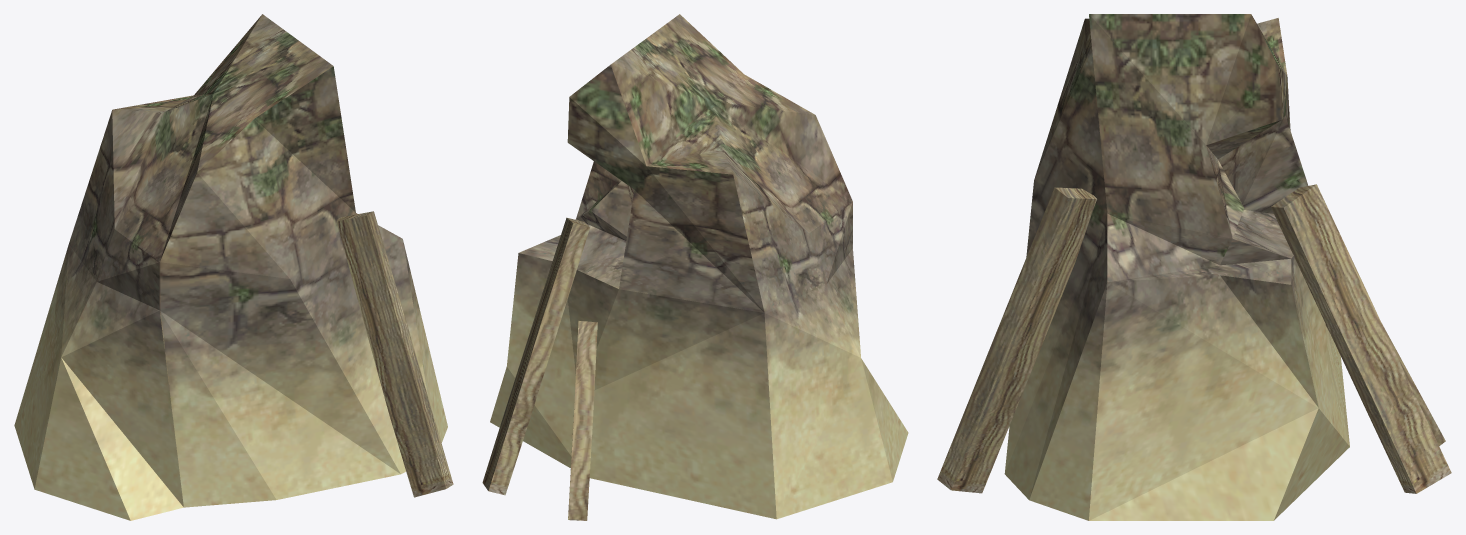
The model's file is C3SMWALLDEBRISA.obj.
3 renders of one model, left to right at view 1: azimuth 30°, elevation 25°; view 2: azimuth 150°, elevation 25°; view 3: azimuth 270°, elevation 25°, orthographic. The views are drawn at different scales.
Parts seen in each view (by area): view 1: Node 0; view 2: Node 0; view 3: Node 0.
Boxes of the visible parts, x1,y1,x2,y2 form: Node 0: (14, 14, 453, 520); Node 0: (482, 14, 908, 520); Node 0: (937, 14, 1451, 520).
Size of the model in its own units: 5.03 by 5.3 by 5.26.
Materials: 1 (1 with a texture image).
